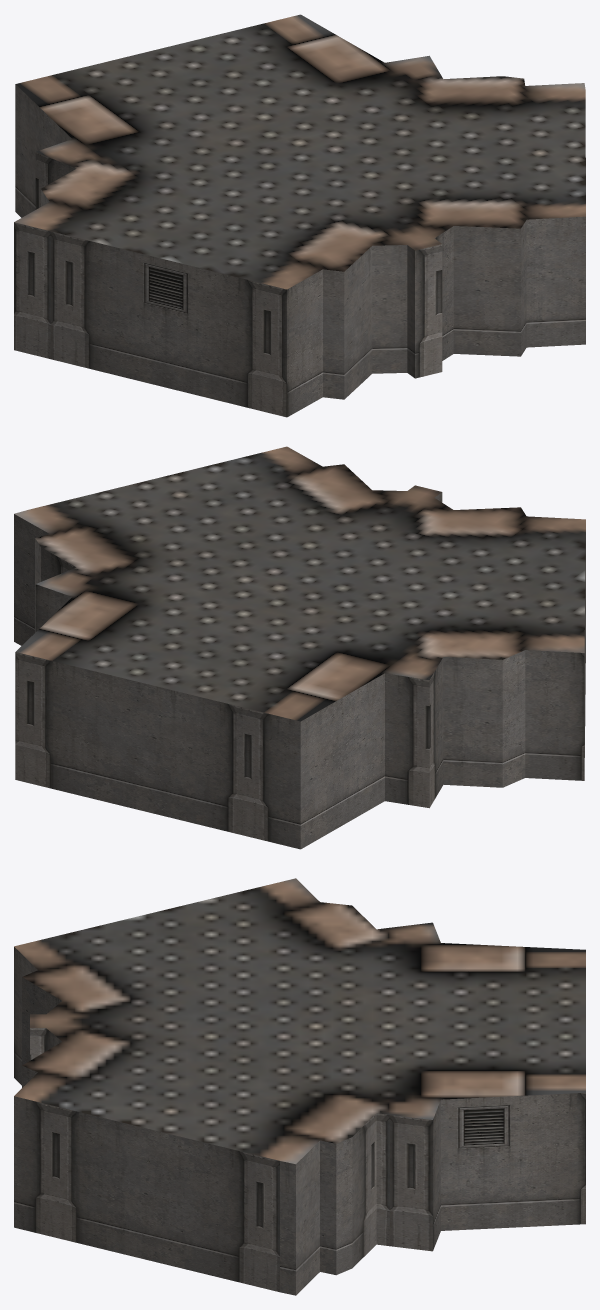
The model's file is building_hard_a_21.glb.
3 views of the same model, one above another, from view 1: azimuth 30°, elevation 25°; view 2: azimuth 150°, elevation 25°; view 3: azimuth 270°, elevation 25° (orthographic). The views are drawn at different scales.
Parts seen in each view (by area): view 1: buildings/saxarba/building_hard/building_hard_a_21; view 2: buildings/saxarba/building_hard/building_hard_a_21; view 3: buildings/saxarba/building_hard/building_hard_a_21.
Part boxes in pixels (left/top/right/bottom): buildings/saxarba/building_hard/building_hard_a_21: left=14, top=14, right=585, bottom=417; buildings/saxarba/building_hard/building_hard_a_21: left=14, top=446, right=585, bottom=849; buildings/saxarba/building_hard/building_hard_a_21: left=14, top=878, right=585, bottom=1295.
Bounding box in the file's own units: 84 × 18 × 71.
